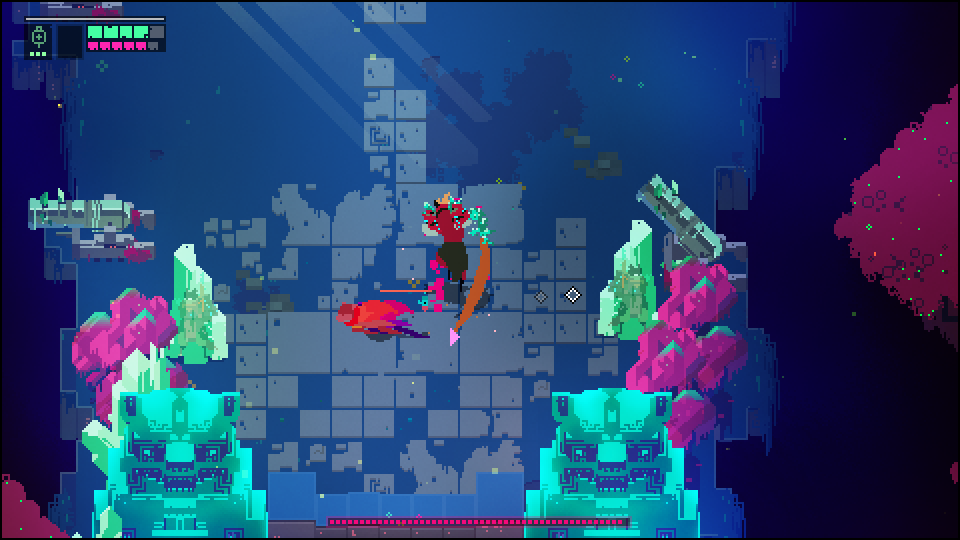hanged_man: (419, 192, 498, 289)
player: (326, 292, 413, 337)
